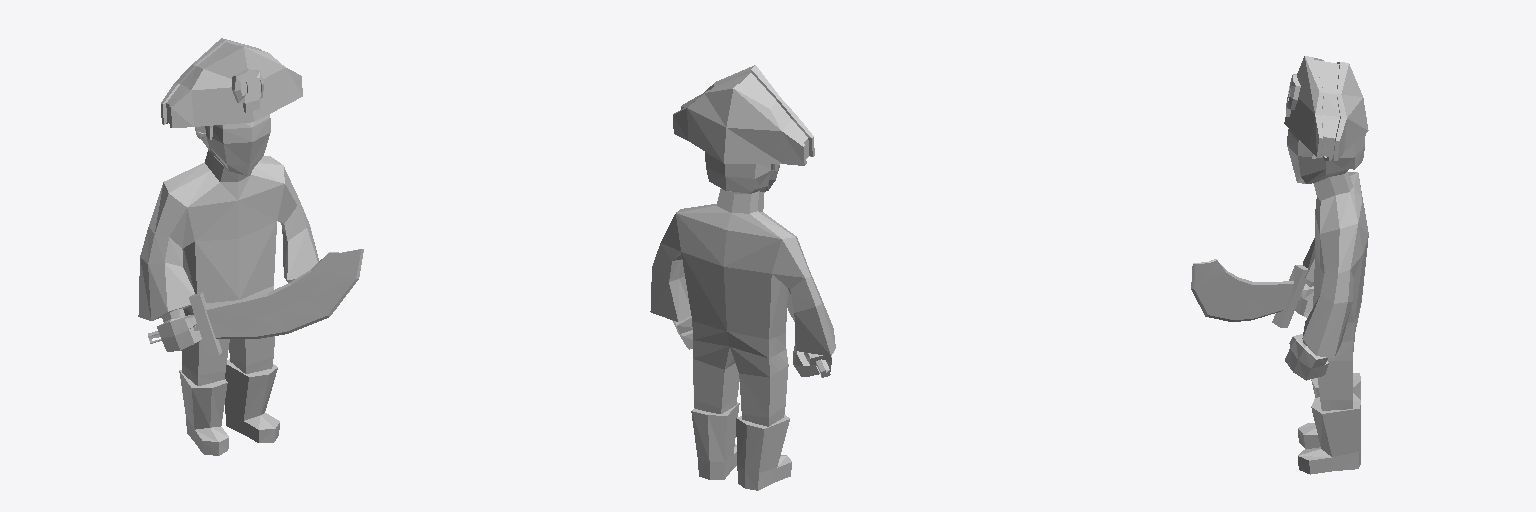
File: Pirate.obj
3 views of the same model, side by side, from view 1: azimuth 30°, elevation 25°; view 2: azimuth 150°, elevation 25°; view 3: azimuth 270°, elevation 25° (orthographic).
Parts seen in each view (by area): view 1: default, _3, _2, _1, _4; view 2: default, _3, _2, _1; view 3: default, _3, _2, _1.
Boxes of the visible parts, box(x1,y1,x2,y2) form: default: box(138, 38, 318, 320); _3: box(181, 249, 363, 385); _2: box(148, 292, 279, 455); _1: box(157, 114, 270, 351); _4: box(232, 69, 263, 112); default: box(650, 65, 835, 355); _3: box(692, 288, 794, 426); _2: box(691, 359, 830, 490); _1: box(672, 164, 831, 376); default: box(1284, 56, 1368, 358); _3: box(1191, 259, 1361, 410); _2: box(1272, 265, 1360, 474); _1: box(1285, 129, 1352, 380).
Size of the model in its own units: 6.96 by 14.73 by 5.93.